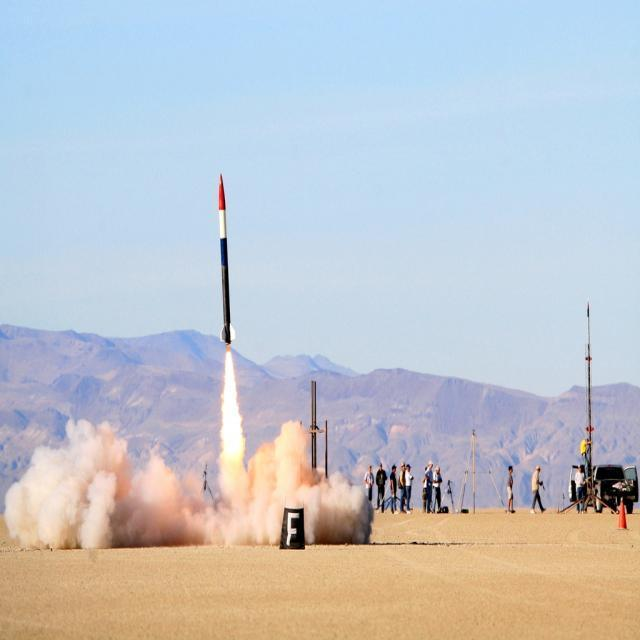Missile: (211, 171, 236, 347)
